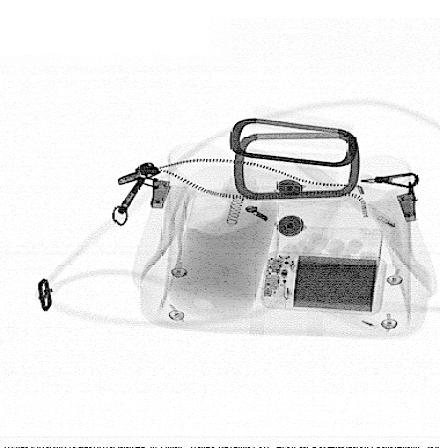Powerbank: (261, 250, 387, 317)
